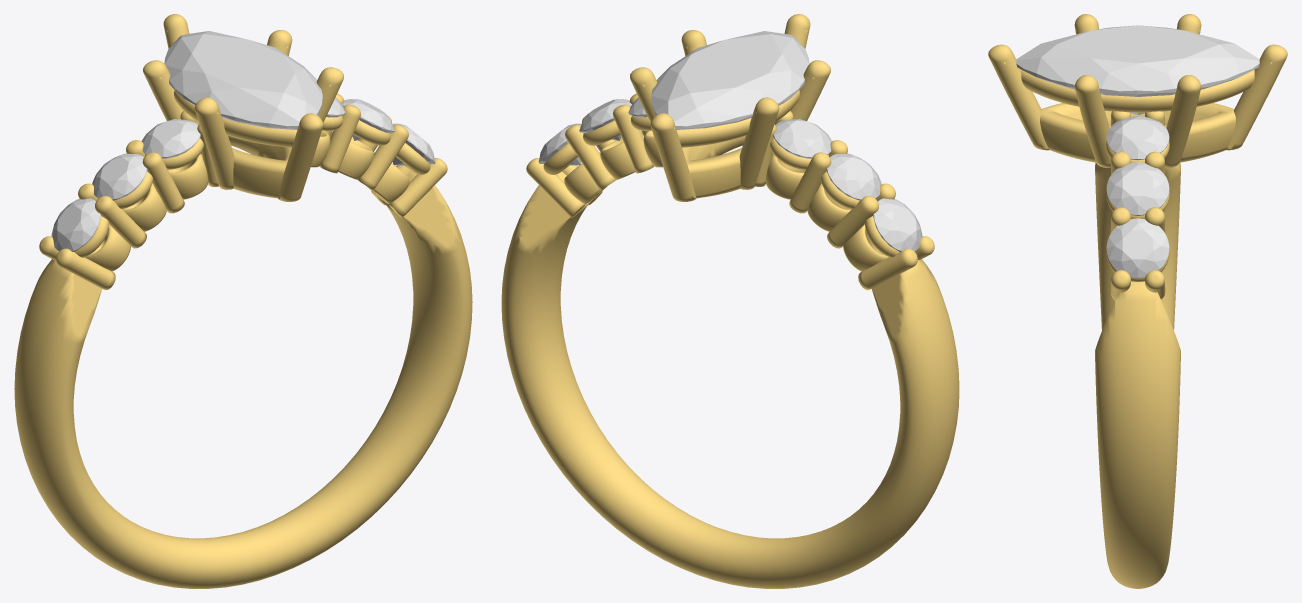
File: diamond-marquise-yellowgold-6prong-taperedband-7stone.glb
3 views of the same model, side by side, from view 1: azimuth 30°, elevation 25°; view 2: azimuth 150°, elevation 25°; view 3: azimuth 270°, elevation 25° (orthographic).
Visible parts, largest first — view 1: metal.001, stone, dia, dia.003, dia.004, dia.006, dia.005; view 2: metal.001, stone, dia, dia.003, dia.004, dia.006, dia.005; view 3: metal.001, stone, dia.005, dia.006, dia.007.
Part boxes in pixels (<box>): metal.001: <box>14,14,472,588</box>; stone: <box>164,31,322,129</box>; dia: <box>51,198,100,251</box>; dia.003: <box>92,153,147,200</box>; dia.004: <box>141,119,200,158</box>; dia.006: <box>342,99,394,140</box>; dia.005: <box>392,123,435,165</box>; metal.001: <box>501,14,959,588</box>; stone: <box>651,31,809,129</box>; dia: <box>873,198,922,251</box>; dia.003: <box>826,153,881,200</box>; dia.004: <box>773,119,832,158</box>; dia.006: <box>579,99,631,140</box>; dia.005: <box>538,123,581,165</box>; metal.001: <box>988,14,1287,588</box>; stone: <box>1016,25,1259,115</box>; dia.005: <box>1106,218,1169,278</box>; dia.006: <box>1106,162,1169,215</box>; dia.007: <box>1106,116,1169,160</box>.
Size of the model in its own units: 20.5 by 22.92 by 11.96.
